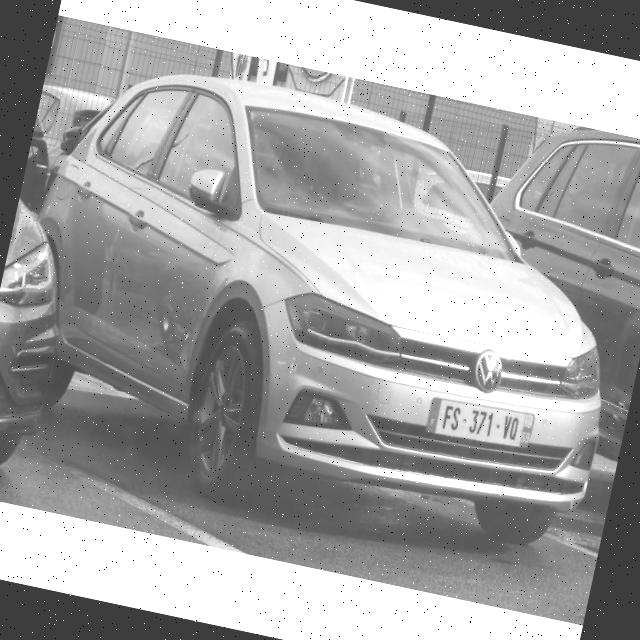EU: (424, 394, 539, 452)
France: (422, 394, 446, 433)
